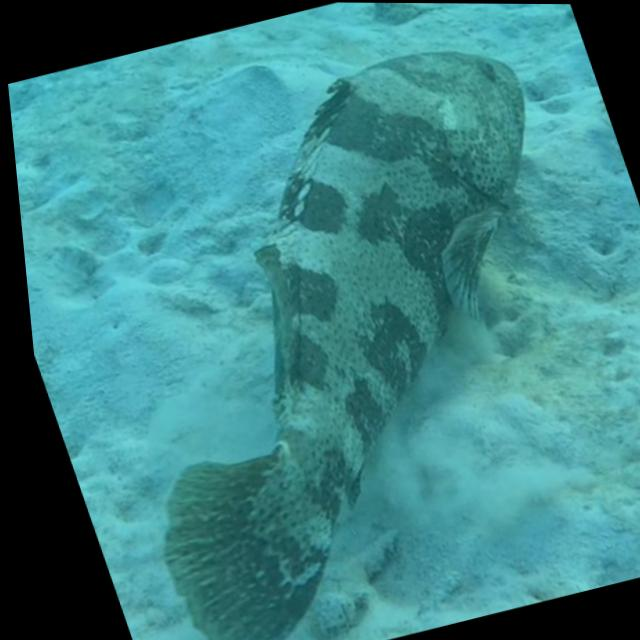Groupers: (12, 27, 640, 640)
